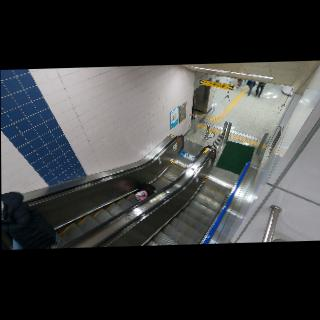anomaly: (131, 182, 158, 203)
normal: (2, 188, 61, 250), (254, 81, 265, 98), (246, 81, 254, 97), (237, 77, 243, 91)
